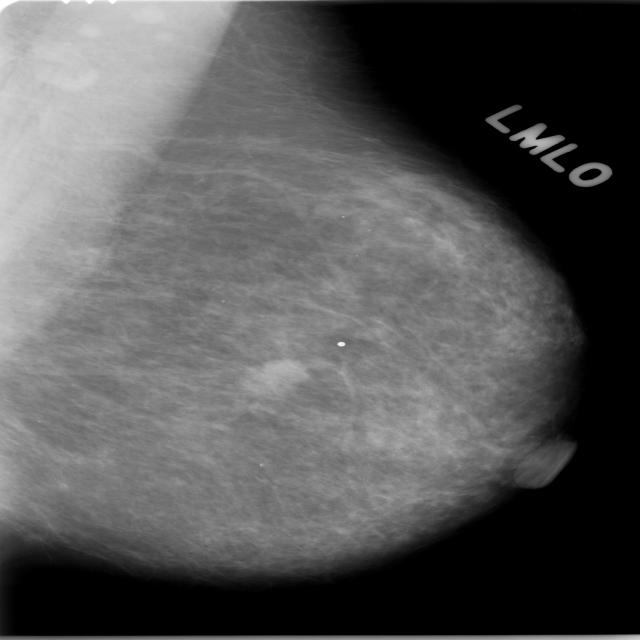normal: (0, 0, 600, 616)
